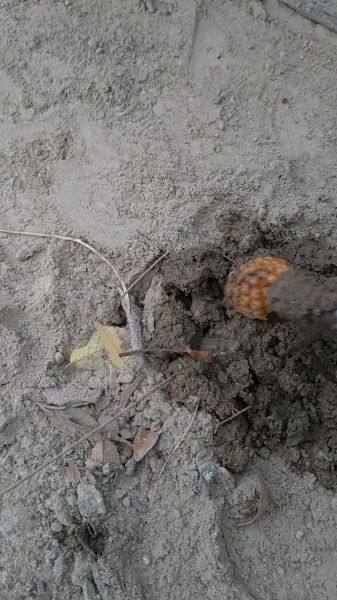eggs: (218, 249, 297, 327)
